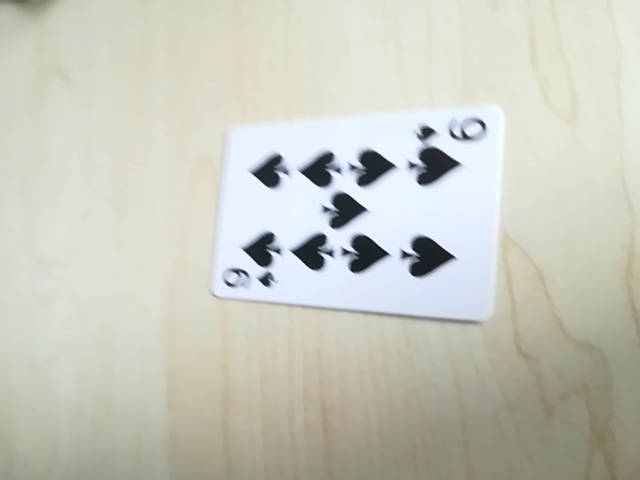ht 9: (413, 115, 495, 149), (218, 263, 281, 296)
